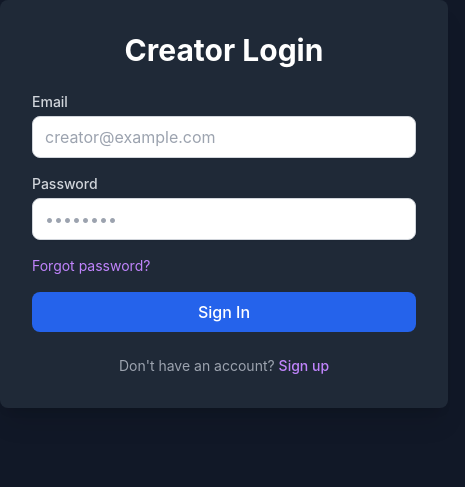
Property 2: Valid credentials establish session › should display error message when login fails
Note: Fill in the form
Type "wrong@example.com" into the field labelled "Email". click: (224, 137)
box: [32,116,416,158]
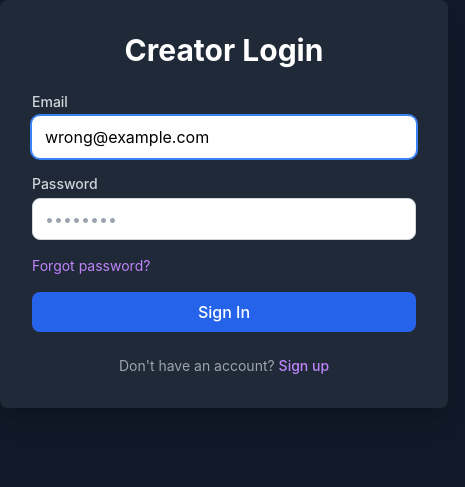
Type "WrongPass123!" into the password field labelled "Password". click: (224, 219)
box: [32,198,416,240]
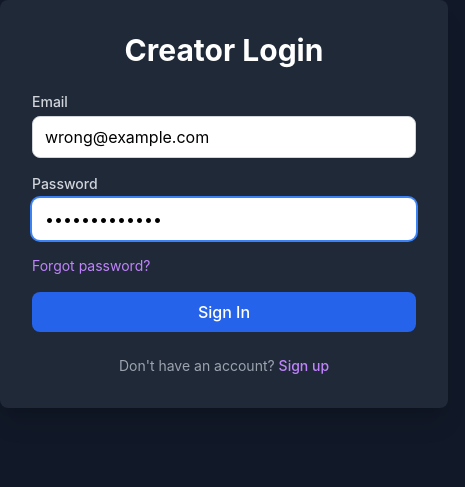
Note: Submit the form
Click the button "Sign In". click: (224, 312)
box: [32,292,416,332]
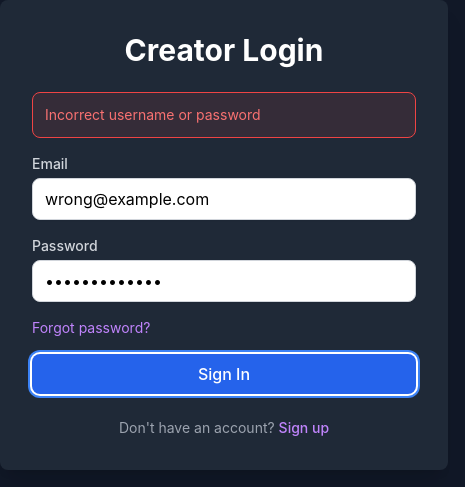
Result: the text "Incorrect username or password" is shown at [32,92,416,138]
